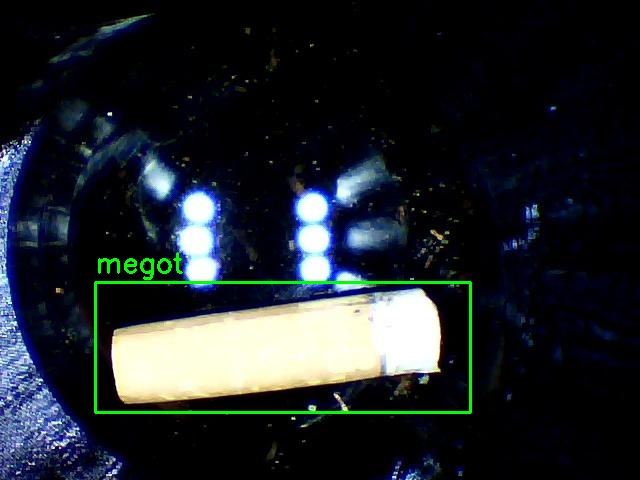megot: (95, 282, 470, 412)
